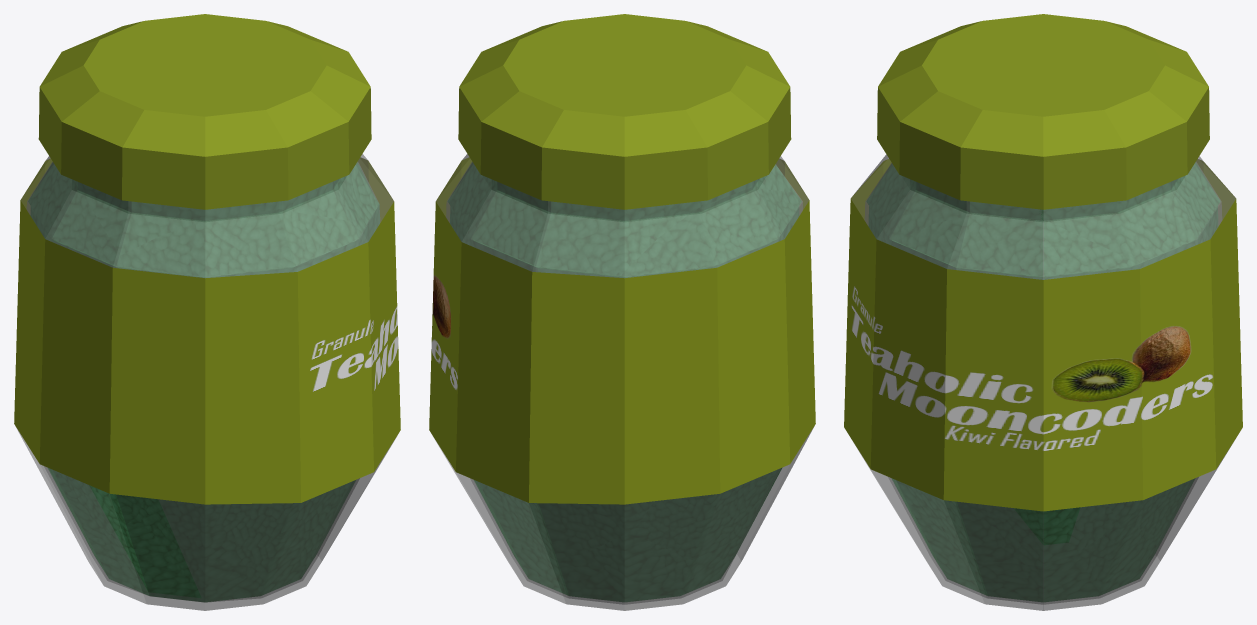
File: KiwiProductContainer.fbx
3 views of the same model, side by side, from view 1: azimuth 30°, elevation 25°; view 2: azimuth 150°, elevation 25°; view 3: azimuth 270°, elevation 25° (orthographic).
Visible parts, largest first — view 1: KiwiContainer, KiwiCover, KiwiGranule, KiwiGranule_5, KiwiGranule_4; view 2: KiwiContainer, KiwiCover, KiwiGranule, KiwiGranule_5, KiwiGranule_4; view 3: KiwiContainer, KiwiCover, KiwiGranule_5, KiwiGranule, KiwiGranule_4.
Part boxes in pixels (x1,y1,x2,y2): KiwiContainer: (14,154,400,610); KiwiCover: (38,14,371,209); KiwiGranule: (48,468,355,601); KiwiGranule_5: (28,162,377,276); KiwiGranule_4: (30,202,379,277); KiwiContainer: (429,154,815,610); KiwiCover: (458,14,791,209); KiwiGranule: (474,468,781,601); KiwiGranule_5: (448,162,801,275); KiwiGranule_4: (450,207,799,277); KiwiContainer: (844,154,1242,610); KiwiCover: (877,14,1209,209); KiwiGranule_5: (866,162,1220,275); KiwiGranule: (892,479,1194,601); KiwiGranule_4: (868,207,1218,279).
Bounding box in the file's own units: 61 × 86.5 × 63.04.
5 materials, 3 textured.
